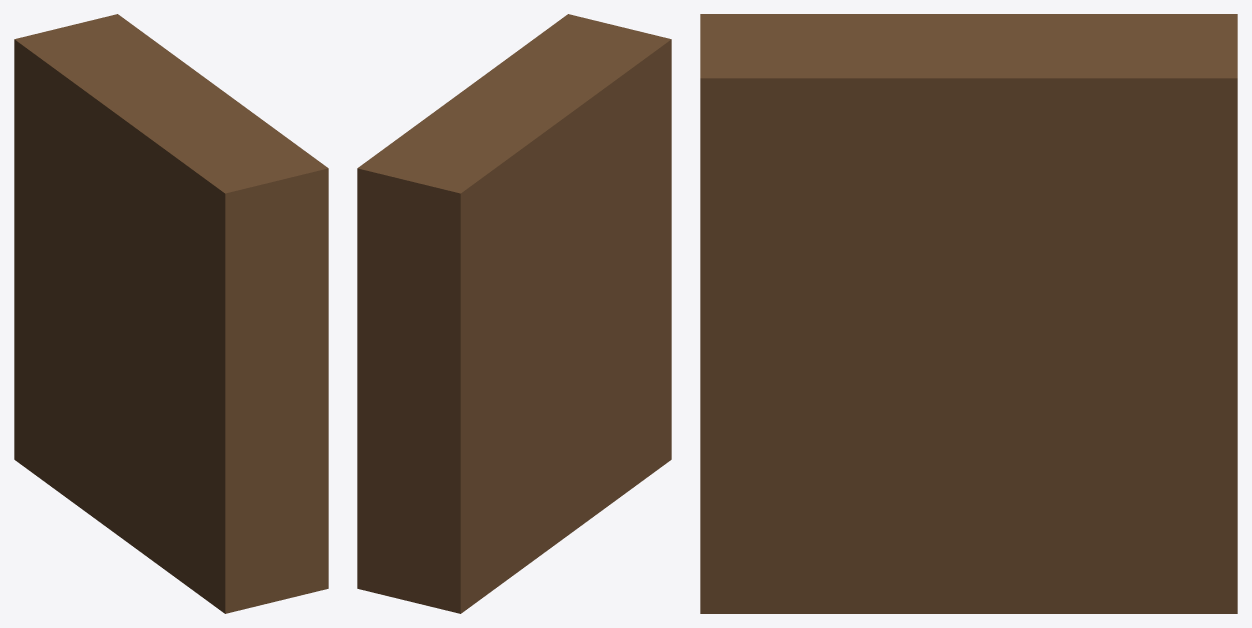
File: wardrobe.glb
3 renders of one model, left to right at view 1: azimuth 30°, elevation 25°; view 2: azimuth 150°, elevation 25°; view 3: azimuth 270°, elevation 25°, orthographic. The views are drawn at different scales.
Parts seen in each view (by area): view 1: REF-L04-R01-wardrobe-part-1; view 2: REF-L04-R01-wardrobe-part-1; view 3: REF-L04-R01-wardrobe-part-1.
Boxes of the visible parts, box(x1,y1,x2,y2) form: REF-L04-R01-wardrobe-part-1: box(14, 14, 328, 613); REF-L04-R01-wardrobe-part-1: box(357, 14, 671, 613); REF-L04-R01-wardrobe-part-1: box(700, 14, 1237, 613).
Size of the model in its own units: 0.17 by 0.66 by 0.6.
